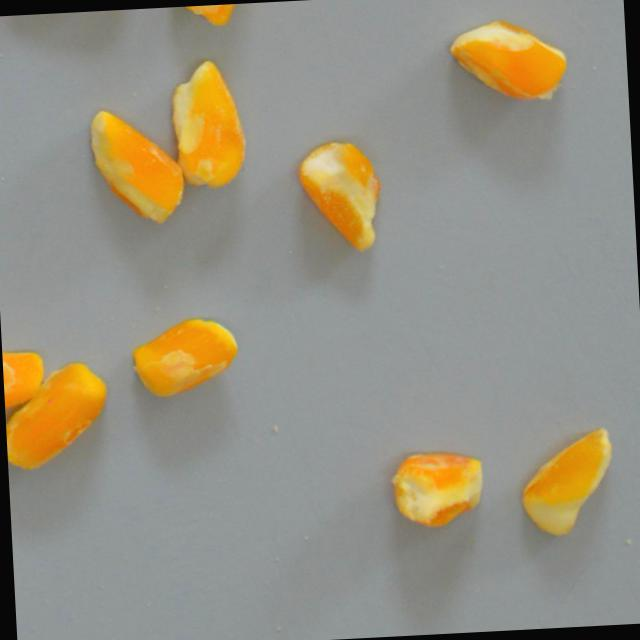pelicula: (293, 136, 421, 262), (377, 444, 504, 536), (122, 314, 249, 406), (446, 17, 572, 109), (70, 122, 196, 214), (519, 425, 618, 542), (3, 377, 124, 468), (169, 59, 251, 189), (0, 335, 48, 423), (169, 3, 260, 34)
